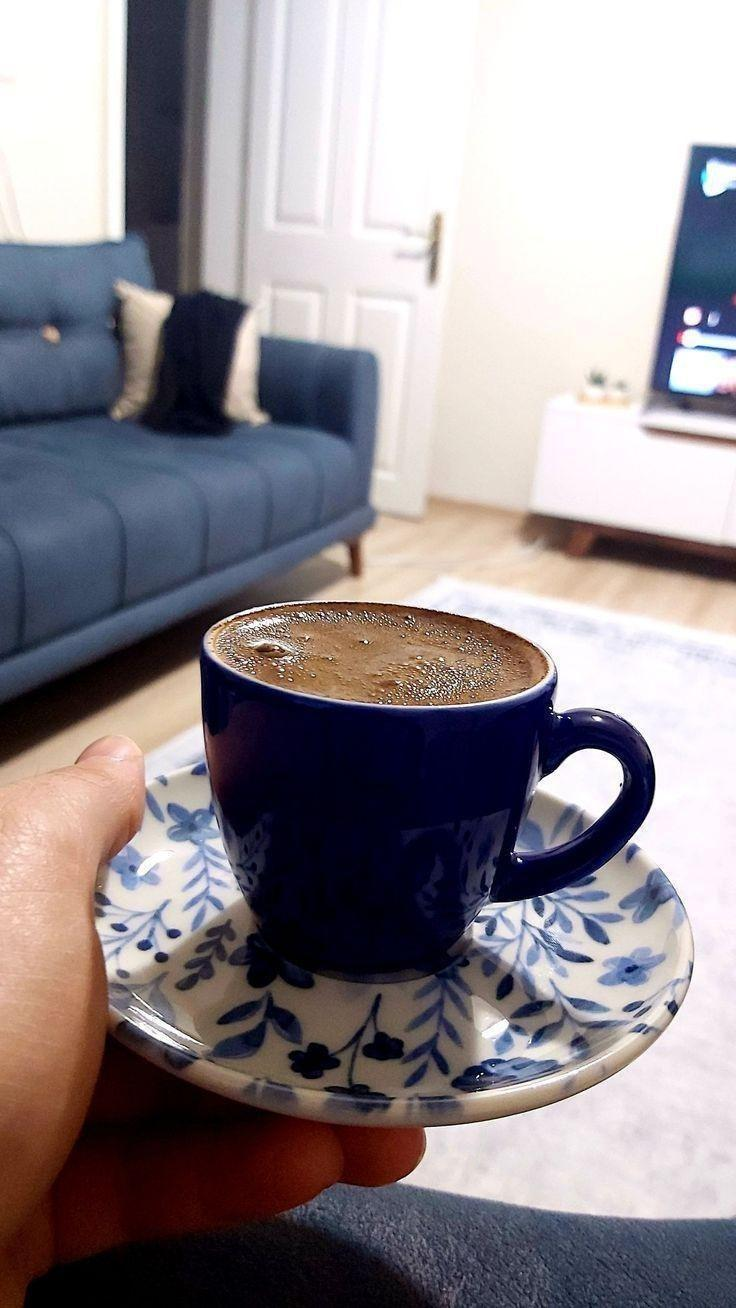cup-handle: (197, 596, 659, 985)
